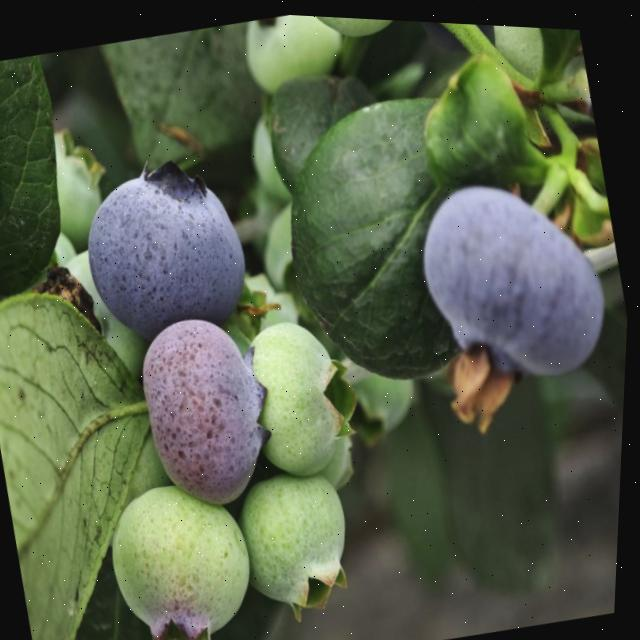RipeBlueBerry: (404, 147, 628, 403), (68, 144, 266, 349)
Semi-RipeBlueBerry: (125, 297, 295, 520)
UnripeBlueBerry: (99, 463, 278, 640), (238, 306, 369, 485), (232, 458, 370, 618)
